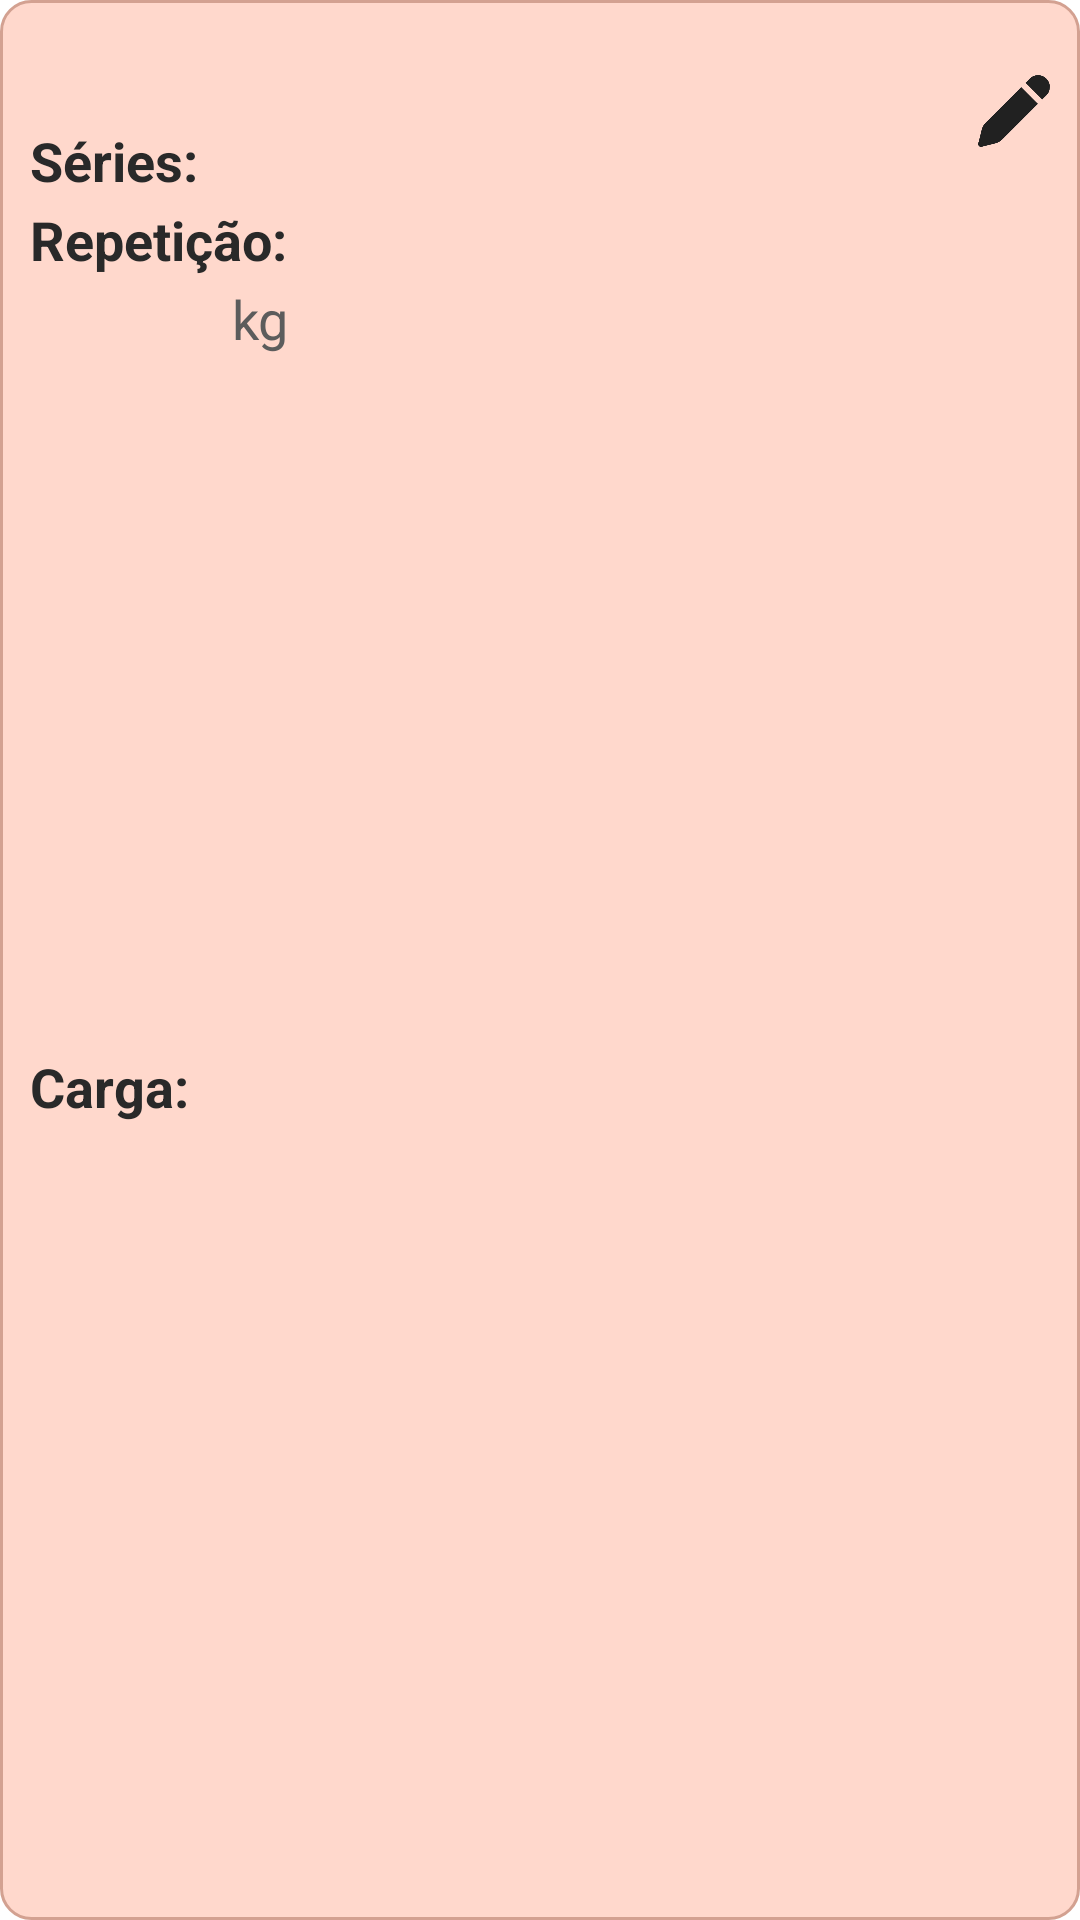

Icons on this 1080px x 1920px Android screen, each with the point to tap as [x,y]:
Icone de edição de exercicio: [1014,111]
